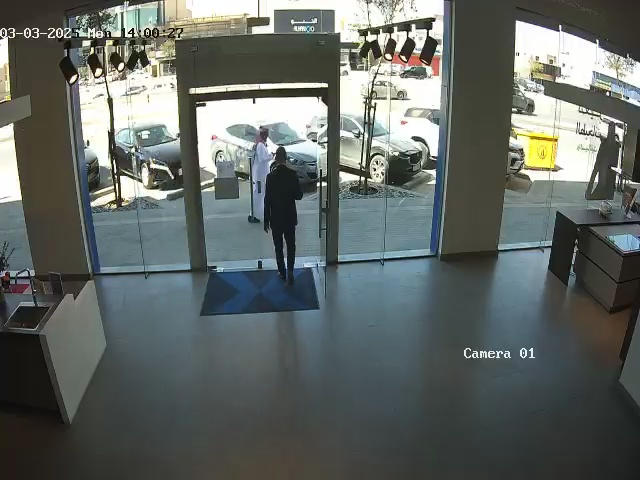employee: (263, 146, 304, 286)
male: (248, 128, 275, 224)
